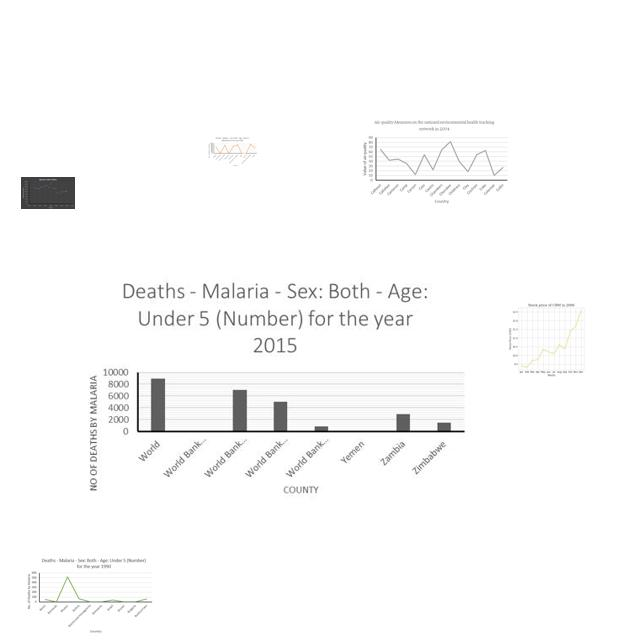Graph: (75, 270, 473, 506), (358, 117, 511, 206), (23, 555, 156, 636), (496, 298, 604, 379), (21, 177, 75, 209), (207, 136, 258, 167)
